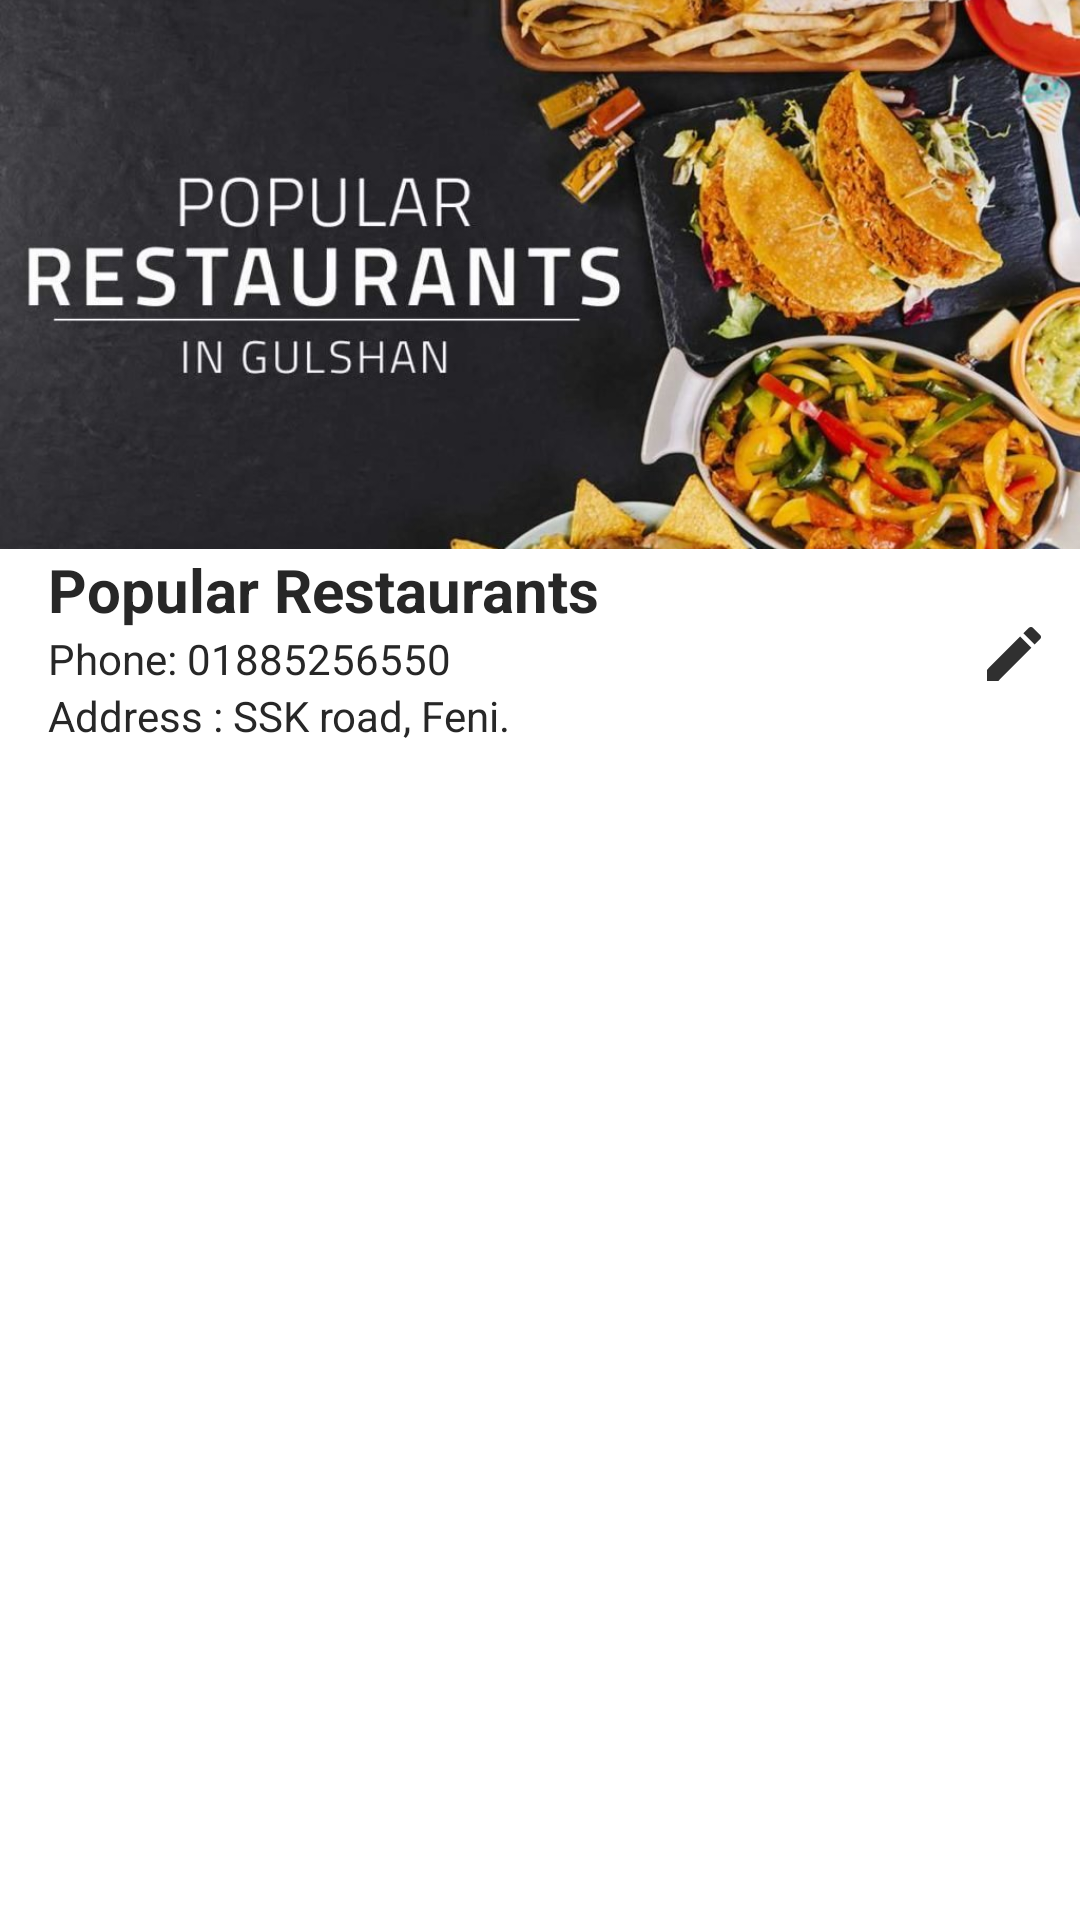

Named icons in this screenshot (1080 × 1920) and their centers, [x,y]:
edit: [1014,654]
